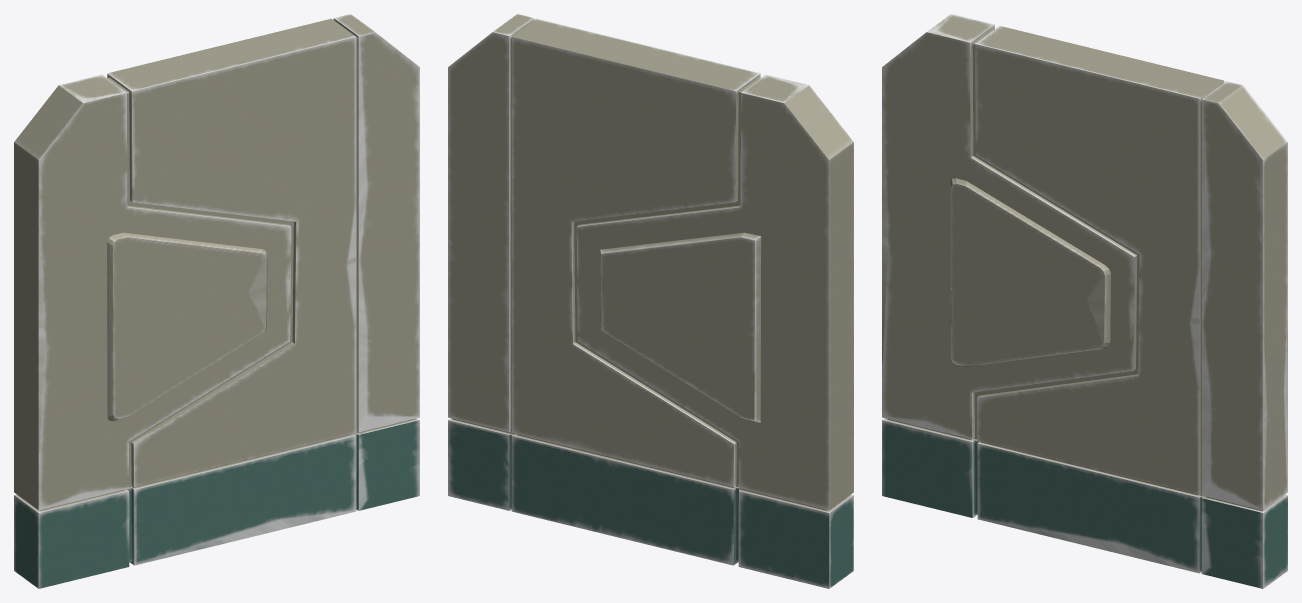
The model's file is door.glb.
3 views of the same model, side by side, from view 1: azimuth 30°, elevation 25°; view 2: azimuth 150°, elevation 25°; view 3: azimuth 330°, elevation 25° (orthographic).
Parts seen in each view (by area): view 1: Door; view 2: Door; view 3: Door.
Part boxes in pixels (<box>): Door: <box>14,14,419,588</box>; Door: <box>448,14,853,588</box>; Door: <box>882,14,1287,588</box>.
Bounding box in the file's own units: 3.1 × 3.69 × 0.4203.
1 material, 1 textured.
